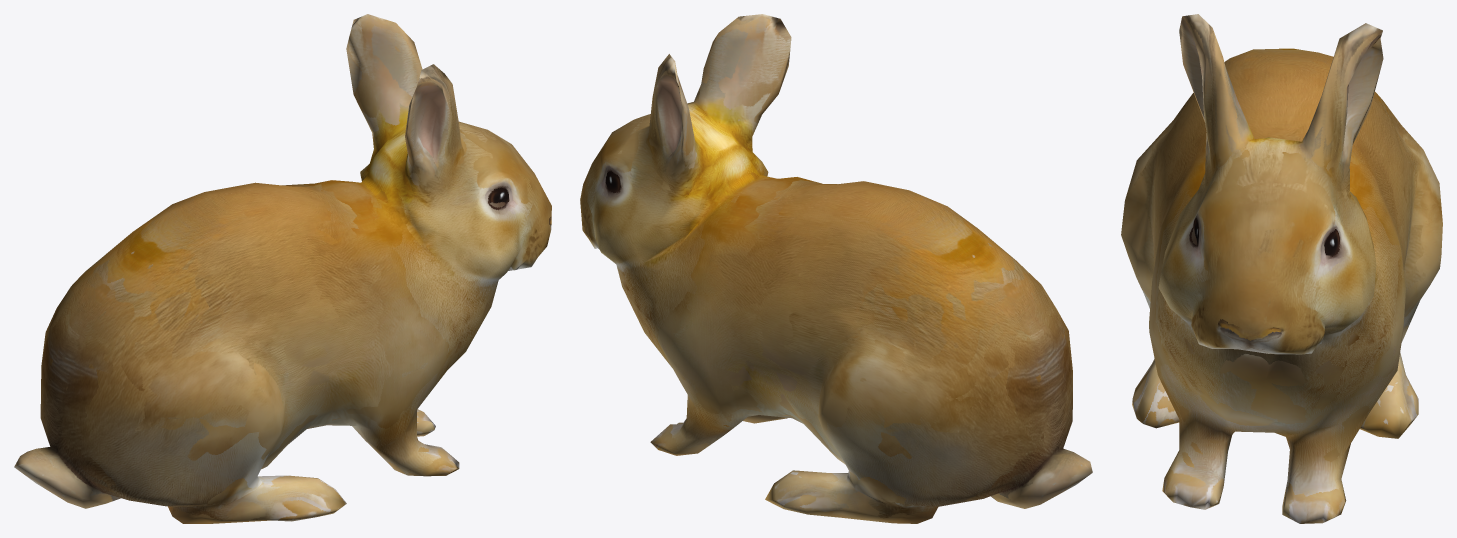
Rendered from rabbit_gold_single_1500.glb.
The picture shows the model from 3 angles, left to right: view 1: azimuth 30°, elevation 25°; view 2: azimuth 150°, elevation 25°; view 3: azimuth 270°, elevation 25°; orthographic projection. The views are drawn at different scales.
Bounding box in the file's own units: 0.8823 × 0.6573 × 0.3992.
Materials: 1 (1 with a texture image).
